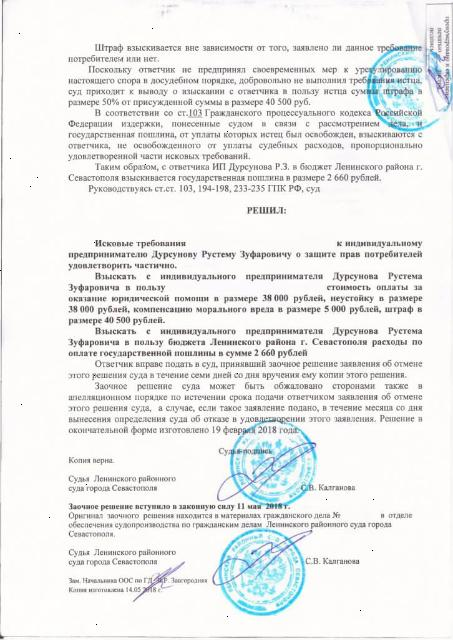stamp: (368, 45, 452, 133), (218, 528, 302, 614), (232, 424, 316, 504)
